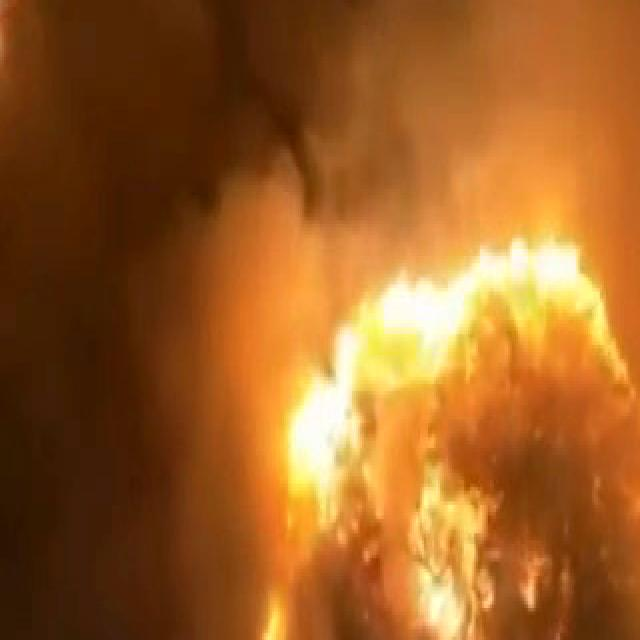fire: (280, 282, 483, 546)
smoke: (334, 0, 640, 224)
